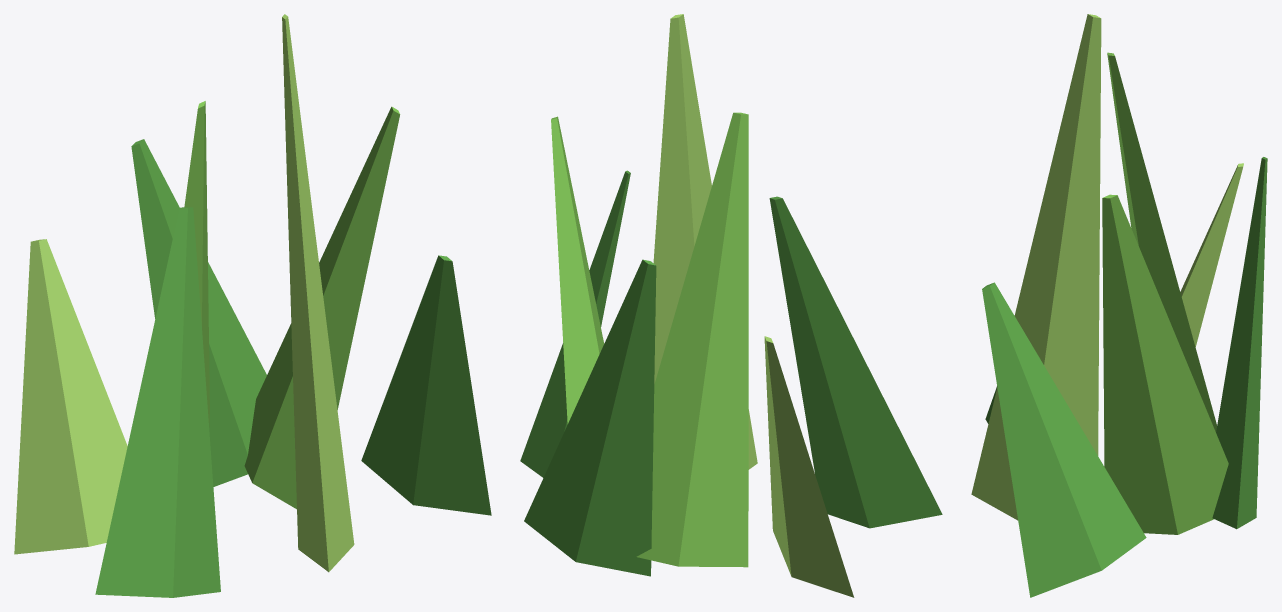
Rendered from grass-tuft.glb.
3 views of the same model, side by side, from view 1: azimuth 30°, elevation 25°; view 2: azimuth 150°, elevation 25°; view 3: azimuth 270°, elevation 25° (orthographic). The views are drawn at different scales.
Visible parts, largest first — view 1: Grass blade 1, Grass blade 6, Grass blade 5, Grass blade 3, Grass blade 4, Grass blade 7, Grass blade 2; view 2: Grass blade 2, Grass blade 7, Grass blade 1, Grass blade 3, Grass blade 6, Grass blade 4, Grass blade 5; view 3: Grass blade 4, Grass blade 3, Grass blade 5, Grass blade 7, Grass blade 2, Grass blade 6.
Part boxes in pixels (x1=…): Grass blade 1: x1=95, y1=207, x2=220, y2=597; Grass blade 6: x1=14, y1=239, x2=127, y2=554; Grass blade 5: x1=361, y1=255, x2=491, y2=515; Grass blade 3: x1=282, y1=14, x2=354, y2=572; Grass blade 4: x1=244, y1=106, x2=400, y2=509; Grass blade 7: x1=131, y1=139, x2=266, y2=486; Grass blade 2: x1=184, y1=101, x2=209, y2=427; Grass blade 2: x1=636, y1=112, x2=748, y2=567; Grass blade 7: x1=524, y1=259, x2=656, y2=576; Grass blade 1: x1=769, y1=196, x2=942, y2=528; Grass blade 3: x1=653, y1=14, x2=757, y2=469; Grass blade 6: x1=764, y1=336, x2=854, y2=597; Grass blade 4: x1=551, y1=116, x2=604, y2=423; Grass blade 5: x1=520, y1=170, x2=630, y2=477; Grass blade 4: x1=1102, y1=194, x2=1228, y2=534; Grass blade 3: x1=971, y1=14, x2=1101, y2=520; Grass blade 5: x1=982, y1=282, x2=1146, y2=597; Grass blade 7: x1=1212, y1=157, x2=1267, y2=529; Grass blade 2: x1=1107, y1=52, x2=1216, y2=431; Grass blade 6: x1=1180, y1=163, x2=1243, y2=346.
Bounding box in the file's own units: 0.3474 × 0.4273 × 0.2271.
